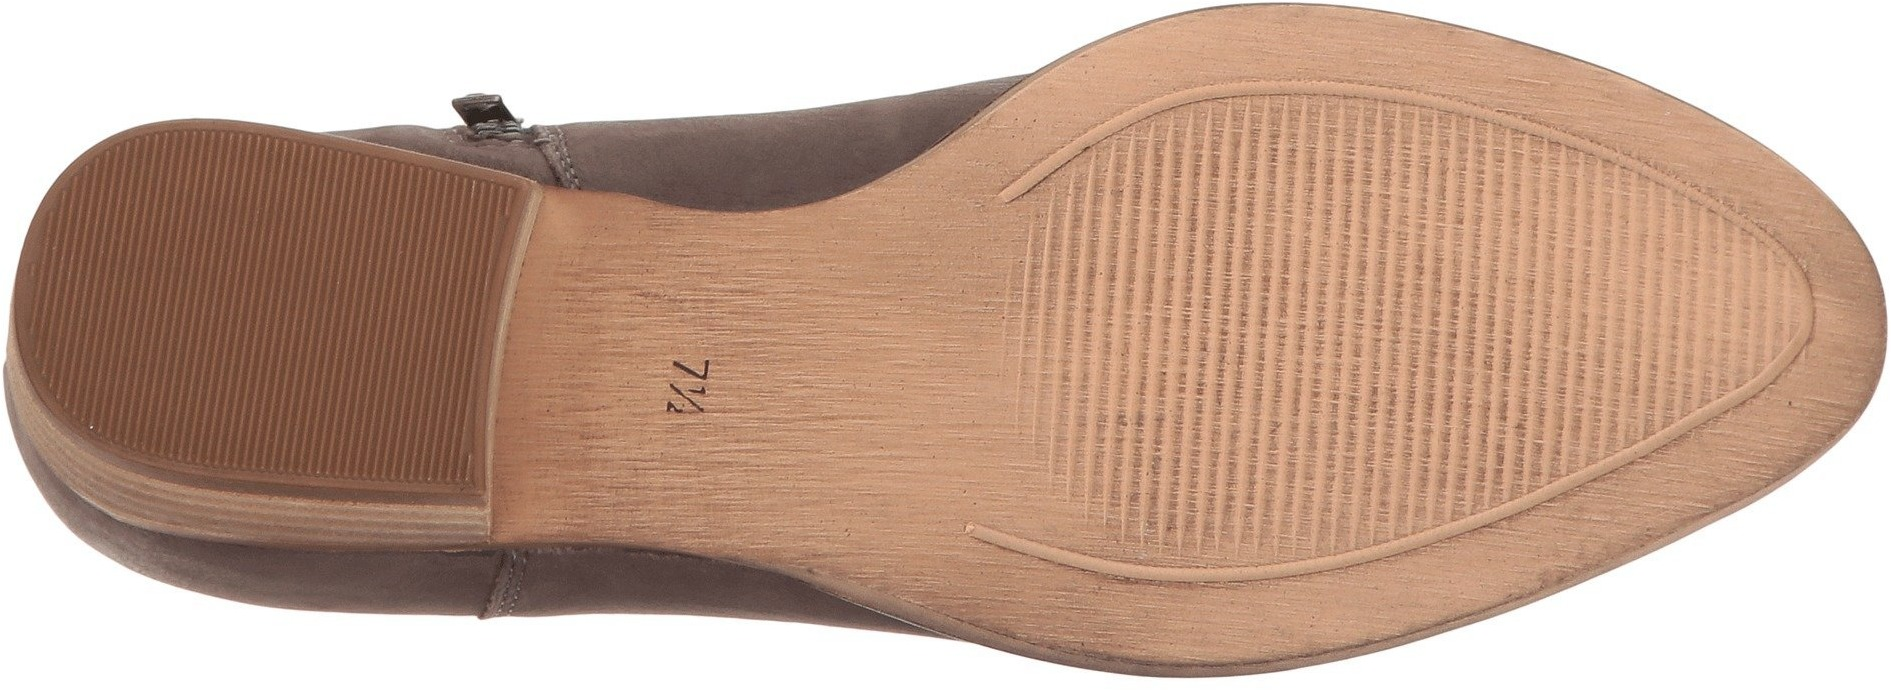other: (1028, 188, 1333, 499), (210, 170, 466, 449), (1343, 127, 1586, 373), (1592, 242, 1754, 404), (37, 234, 207, 387), (1341, 381, 1489, 517)
text: (636, 346, 734, 425)
